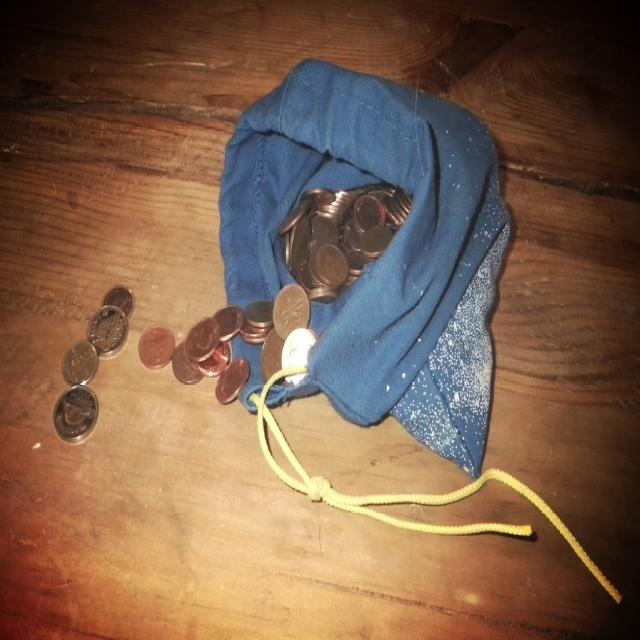Coin: (290, 183, 414, 307), (53, 385, 100, 447), (279, 323, 321, 387), (272, 284, 310, 344), (86, 306, 128, 355), (136, 319, 174, 371), (183, 315, 220, 363), (214, 357, 251, 403), (62, 339, 97, 387), (170, 339, 203, 385), (258, 331, 286, 385), (98, 285, 136, 317), (211, 305, 244, 340), (288, 216, 309, 271), (199, 341, 231, 377), (277, 202, 308, 233), (243, 298, 274, 327), (297, 187, 337, 207), (237, 323, 275, 337), (240, 331, 268, 347), (281, 227, 289, 265)
